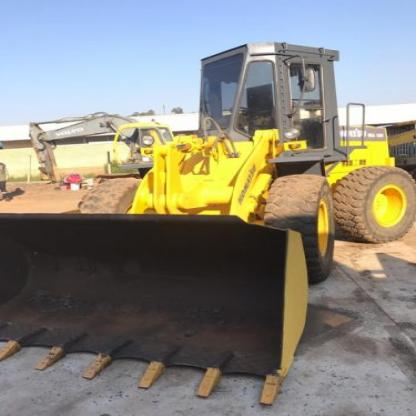bull_dozer/loader/grader: (4, 18, 415, 390)
